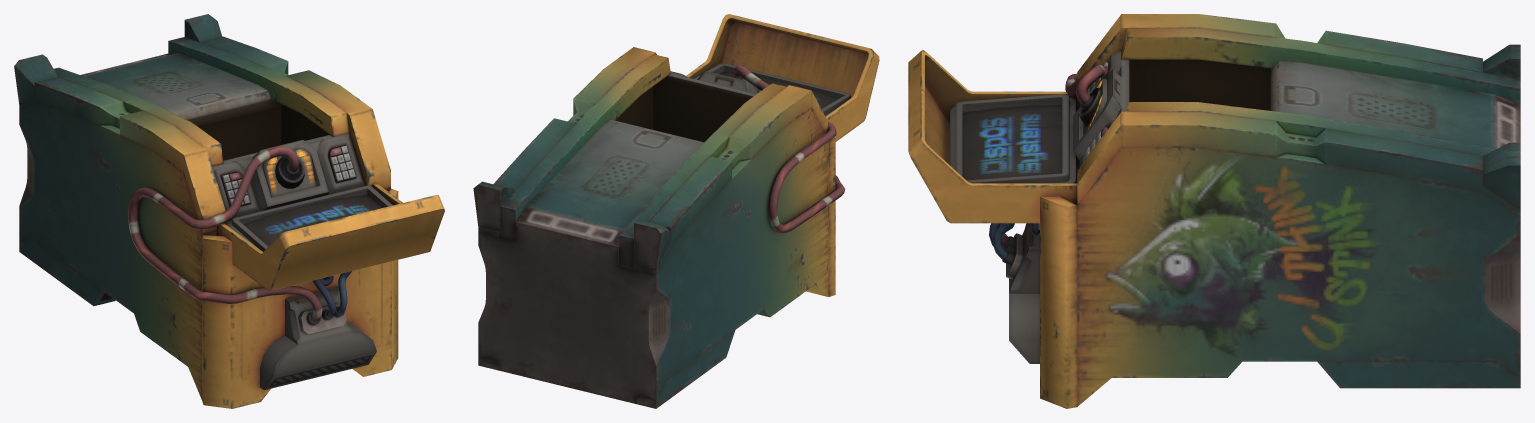
File: sci-fi-trash-bin--dispos-systems-53803d.glb
3 renders of one model, left to right at view 1: azimuth 30°, elevation 25°; view 2: azimuth 150°, elevation 25°; view 3: azimuth 270°, elevation 25°, orthographic. The views are drawn at different scales.
Parts seen in each view (by area): view 1: PropMesh; view 2: PropMesh; view 3: PropMesh.
Part boxes in pixels (bbox=[...]): PropMesh: bbox=[14, 14, 444, 408]; PropMesh: bbox=[473, 14, 879, 408]; PropMesh: bbox=[908, 14, 1520, 408].
Bounding box in the file's own units: 1.9 × 2.05 × 4.04.
2 materials, 1 textured.
